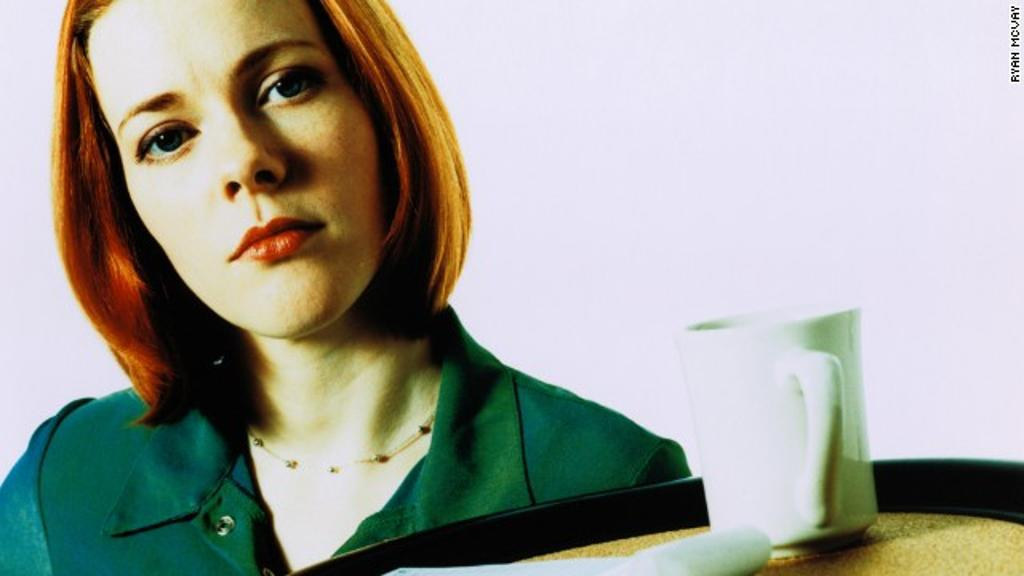face: (81, 7, 383, 335)
